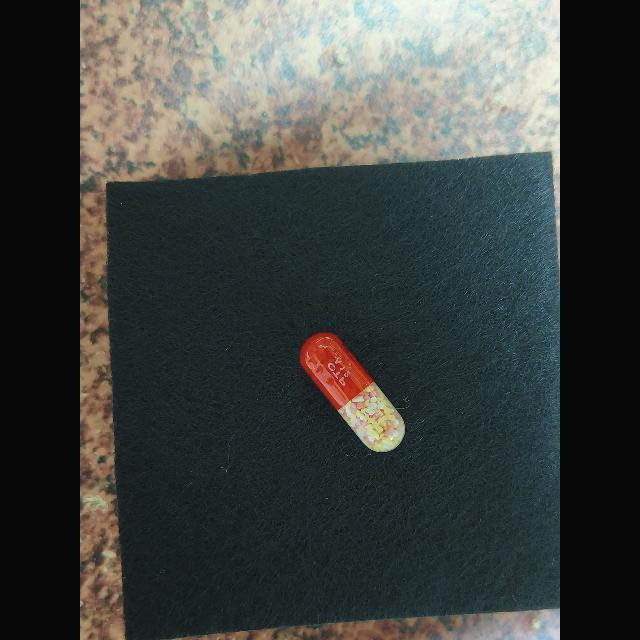Intact Capsule: (299, 332, 405, 452)
